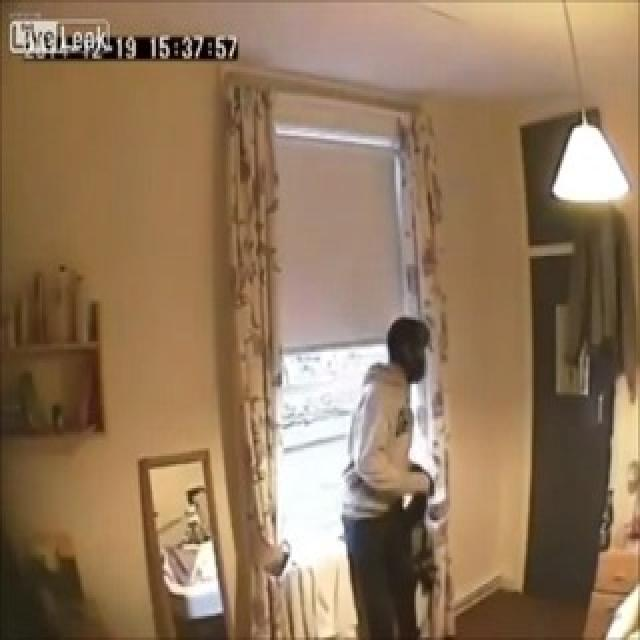thief: (373, 305, 447, 453)
